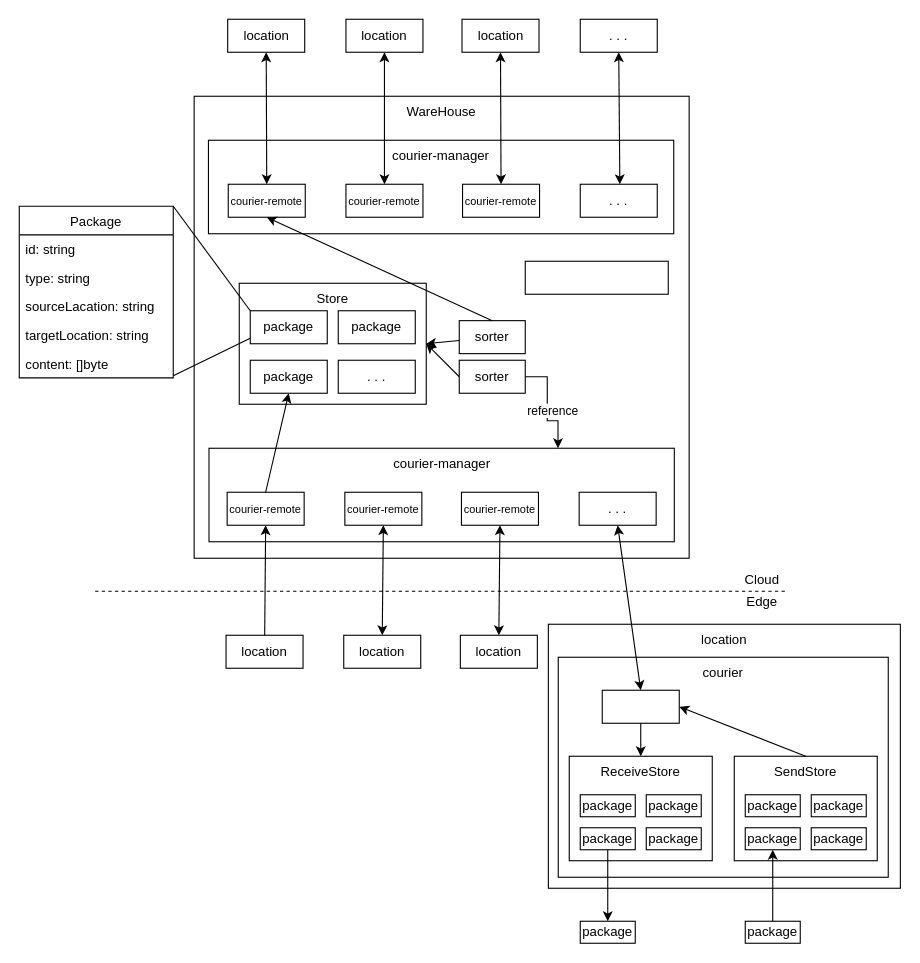
Image size: 920x963. Some labels were removed from this diagram. The shapes that lost their labels are listed below. From the top down, each one's centre as x and y in pixels, then its label:
At point 596,277: "WareHouseManager".
At point 640,706: "conn".
